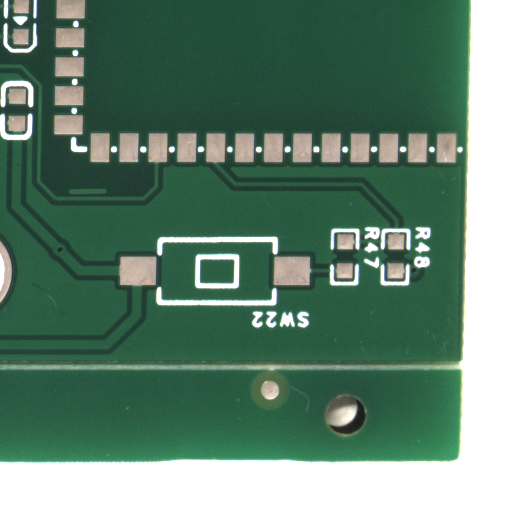Spurious_copper: (88, 190, 128, 199)
